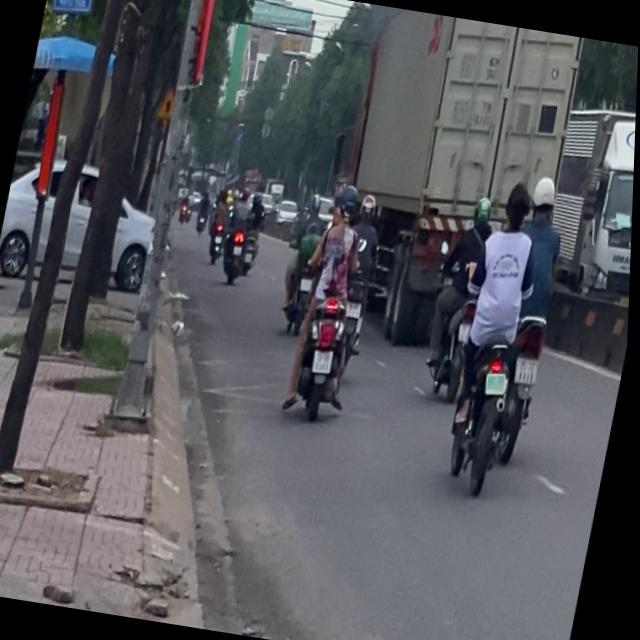helmet: (502, 178, 538, 232), (530, 173, 564, 221), (337, 182, 364, 225), (474, 194, 495, 227)
licenseplate: (438, 166, 557, 496), (486, 172, 585, 470), (282, 177, 387, 425), (420, 190, 503, 402)
nohelmet: (517, 356, 544, 384), (487, 371, 512, 396), (315, 348, 337, 374)
